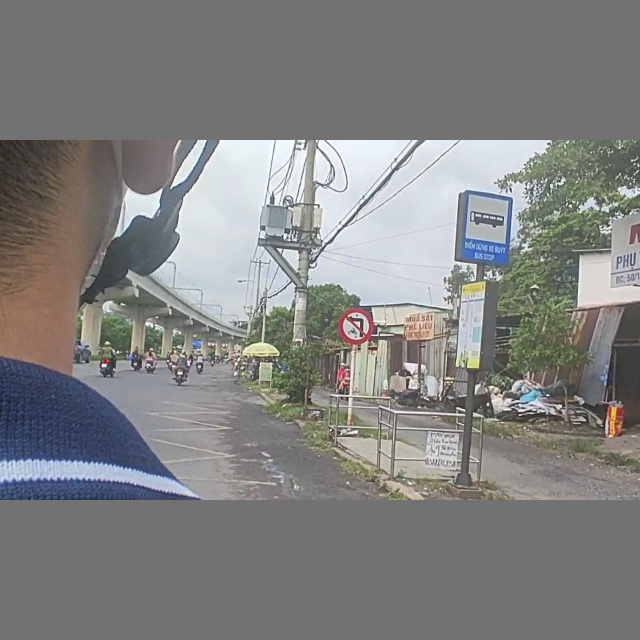I.434a: (457, 190, 511, 267)
P.123a: (337, 306, 375, 345)
